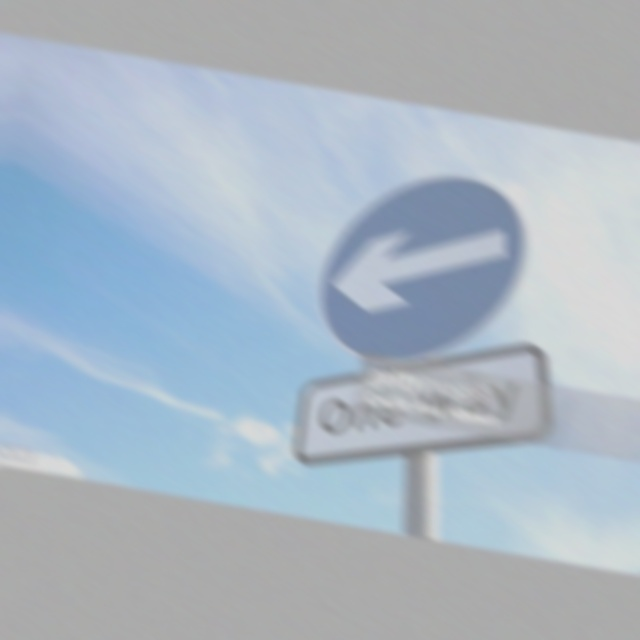Compulsory_Turn_Left: (300, 149, 536, 378)
